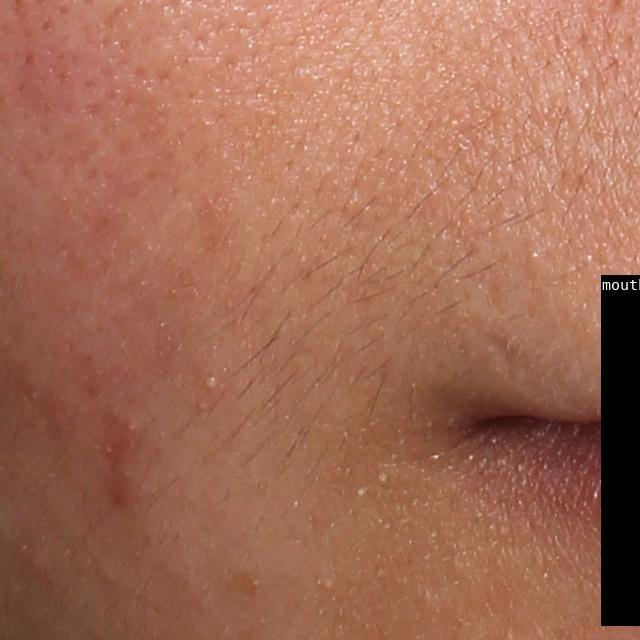comedo: (126, 420, 141, 435)
pustule: (199, 371, 224, 394)
